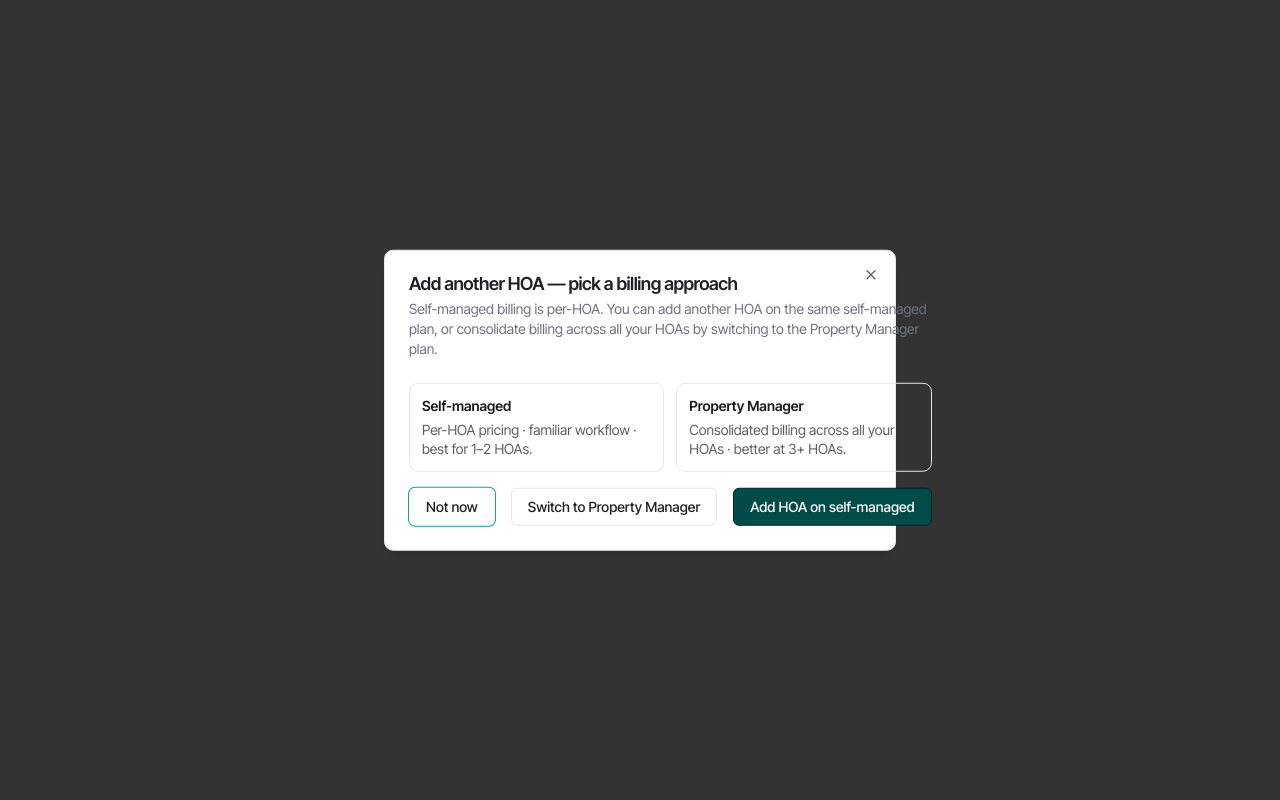
PmUpgradePrompt (4.4 Q6 — Wave 39 dual-path) › Primary path (authenticated default): 'Add HOA on self-managed' opens AddHoaDialog
Click the button with test id "pm-upgrade-add-self-managed": (832, 506) [733, 487, 932, 525]
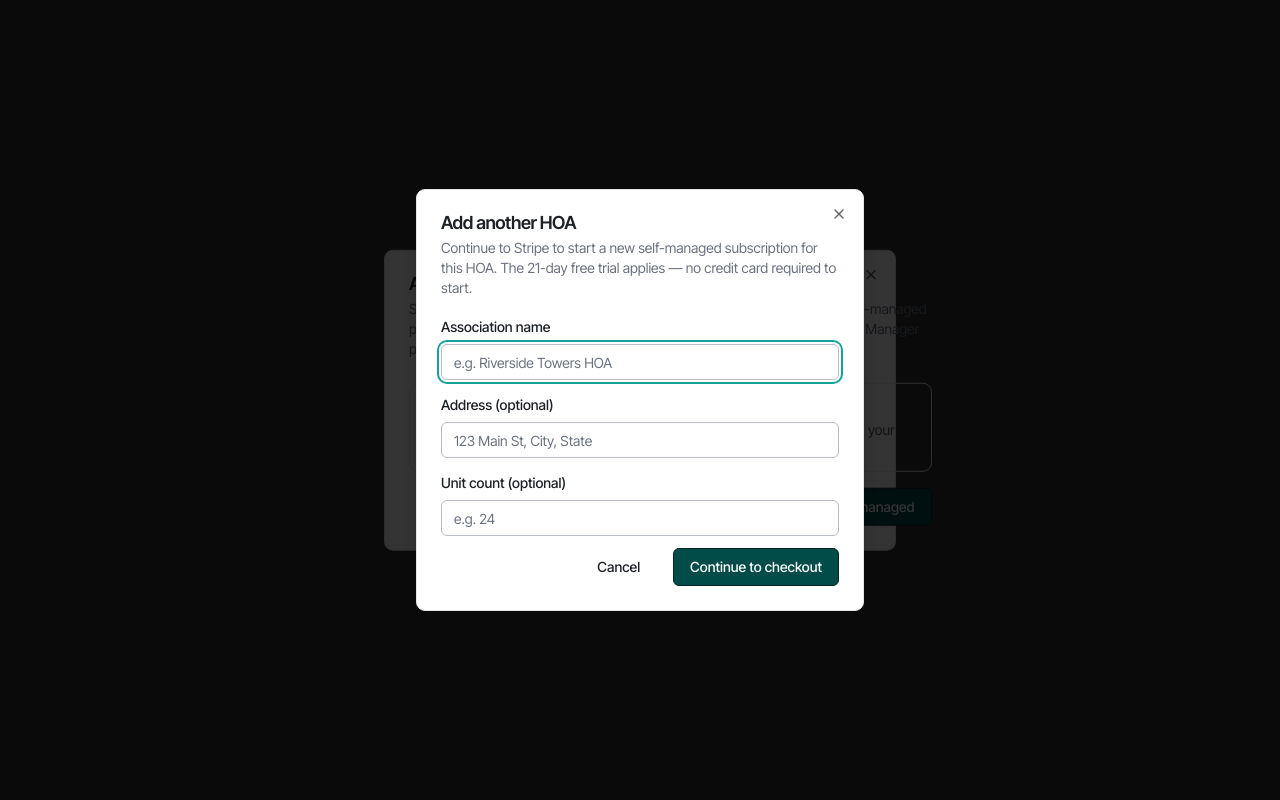
Expected: the dialog with test id "add-hoa-dialog" is shown, [416, 189, 864, 611]
